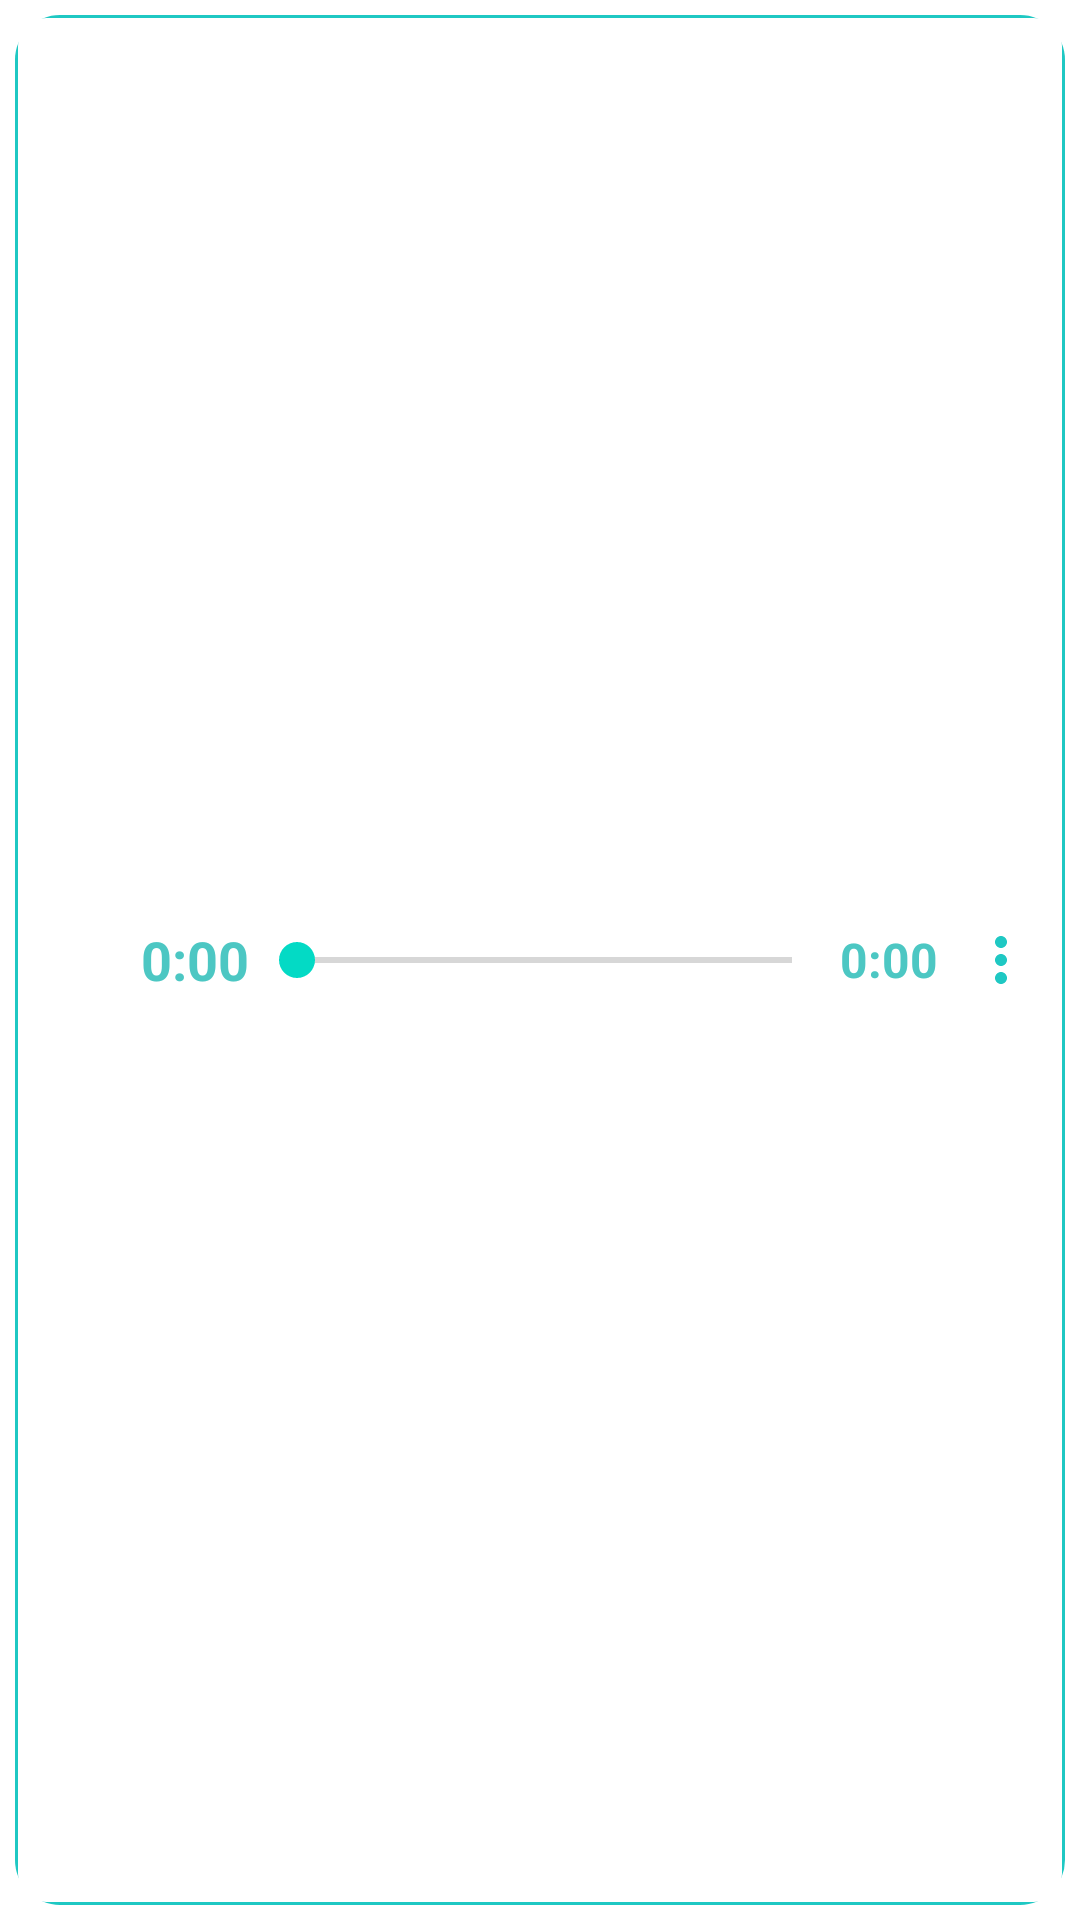

Icon bounding boxes for this 1080px x 1920px phone screenshot, format BBox(x1, y1, x2, y2):
more: BBox(995, 936, 1007, 984)
